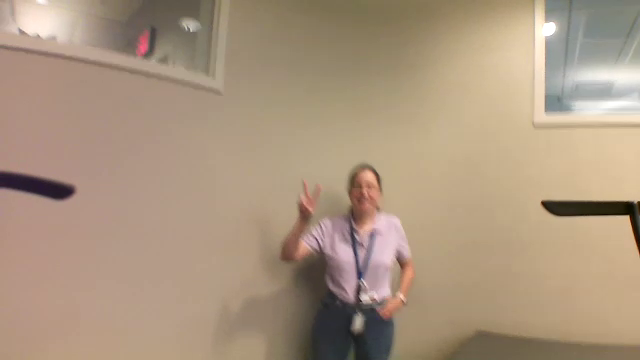peace: (297, 180, 324, 225)
